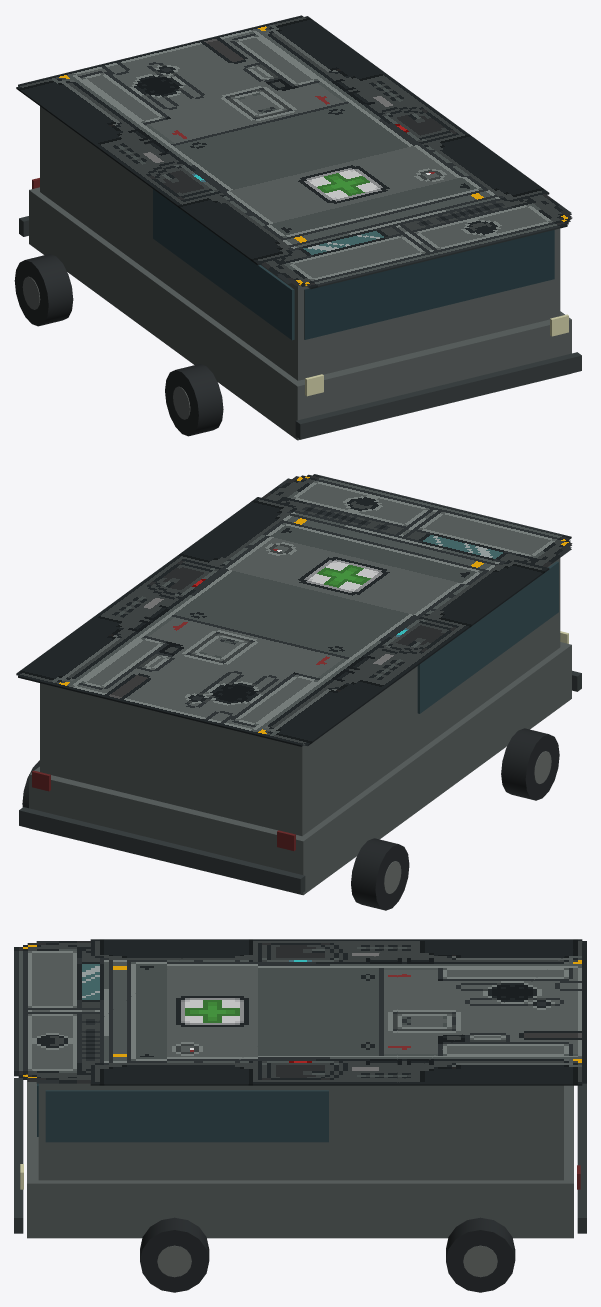
File: CMU3DReduxVehicleAPCMed.glb
3 renders of one model, top to bottom at view 1: azimuth 30°, elevation 25°; view 2: azimuth 150°, elevation 25°; view 3: azimuth 270°, elevation 25°, orthographic.
Visible parts, largest first — view 1: source hull roof panel (×3), upper hull, closed lower chassis, cab windscreen, cab side window, road tire (×2), front bumper; view 2: source hull roof panel (×3), upper hull, closed lower chassis, cab side window, road tire (×2), rear bumper; view 3: source hull roof panel (×3), upper hull, closed lower chassis, cab side window, road tire (×2), wheel hub (×2), front bumper, rear bumper.
Part boxes in pixels (box(x1,y1,x2,y2)): source hull roof panel (×3): box(16, 15, 572, 289); upper hull: box(40, 106, 560, 380); closed lower chassis: box(29, 187, 571, 440); cab windscreen: box(304, 230, 554, 339); cab side window: box(153, 189, 294, 340); road tire (×2): box(14, 254, 223, 436); front bumper: box(295, 352, 581, 439); source hull roof panel (×3): box(16, 474, 572, 746); upper hull: box(40, 558, 560, 835); closed lower chassis: box(29, 642, 571, 895); cab side window: box(417, 561, 558, 713); road tire (×2): box(351, 728, 559, 910); rear bumper: box(19, 807, 305, 894); source hull roof panel (×3): box(14, 939, 586, 1085); upper hull: box(38, 1083, 563, 1180); closed lower chassis: box(27, 1080, 573, 1238); cab side window: box(45, 1090, 328, 1142); road tire (×2): box(140, 1217, 515, 1292); wheel hub (×2): box(157, 1245, 497, 1277); front bumper: box(14, 1078, 23, 1233); rear bumper: box(577, 1083, 586, 1233).
Size of the model in its own units: 2.88 by 1.49 by 3.97.
Materials: 11 (3 with a texture image).
